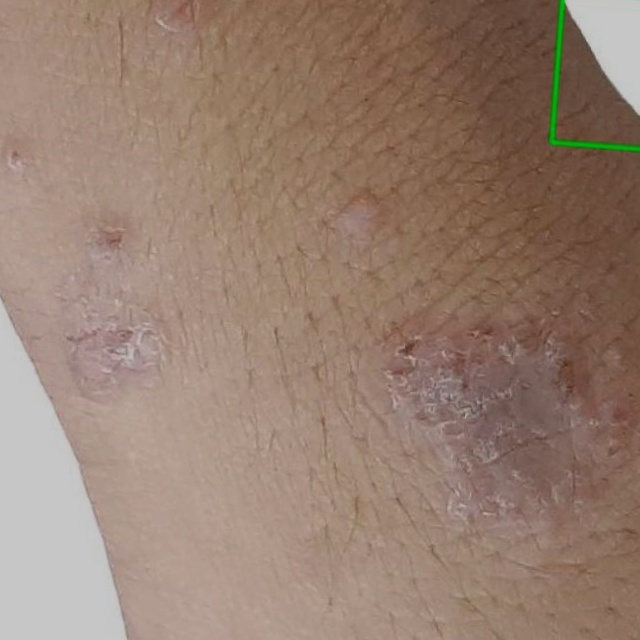Contact Dermatitis: (551, 0, 639, 148)
